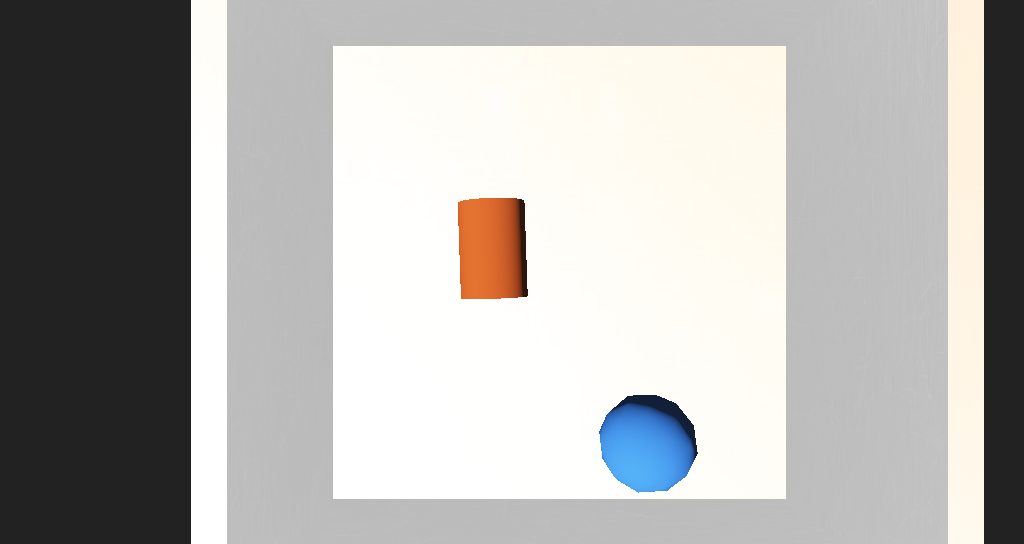cone: (431, 234, 485, 282)
cylinder: (798, 308, 926, 360)
sphere: (525, 327, 593, 370)
